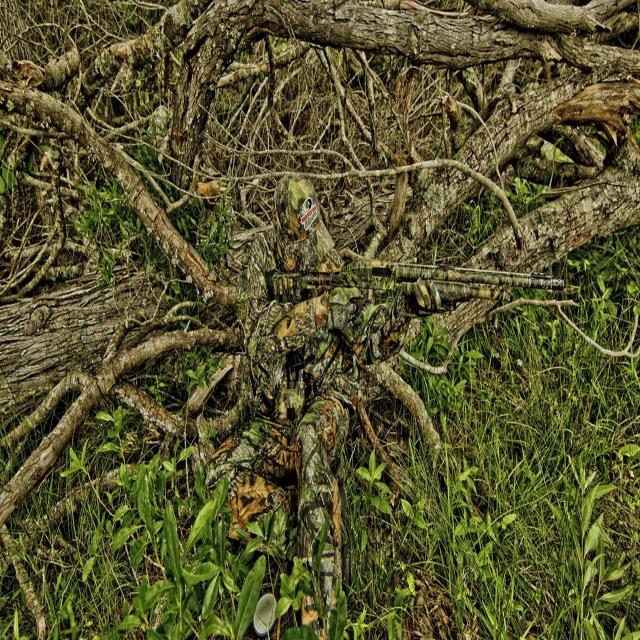Camouflage: (213, 177, 563, 419)
